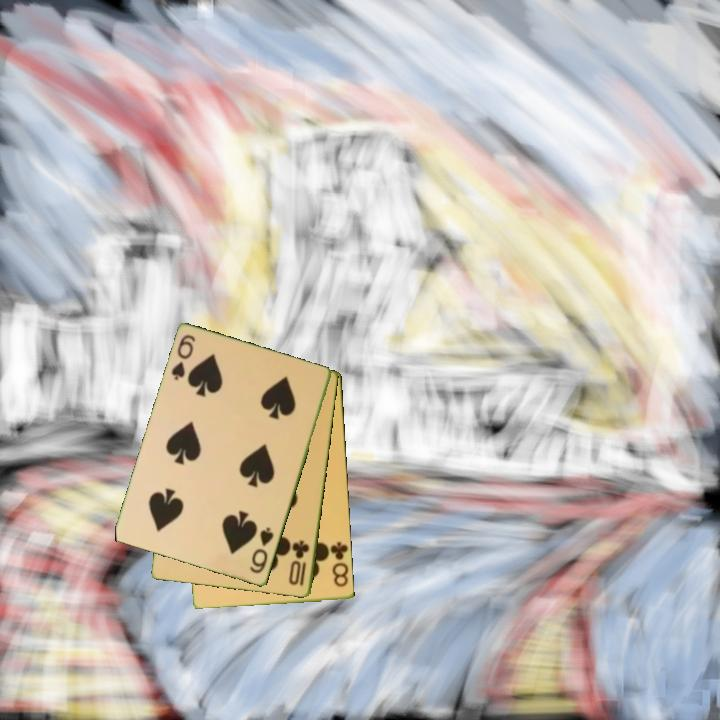10c: (286, 537, 312, 589)
6s: (246, 524, 277, 577), (168, 331, 199, 384)
8c: (325, 539, 351, 590)
